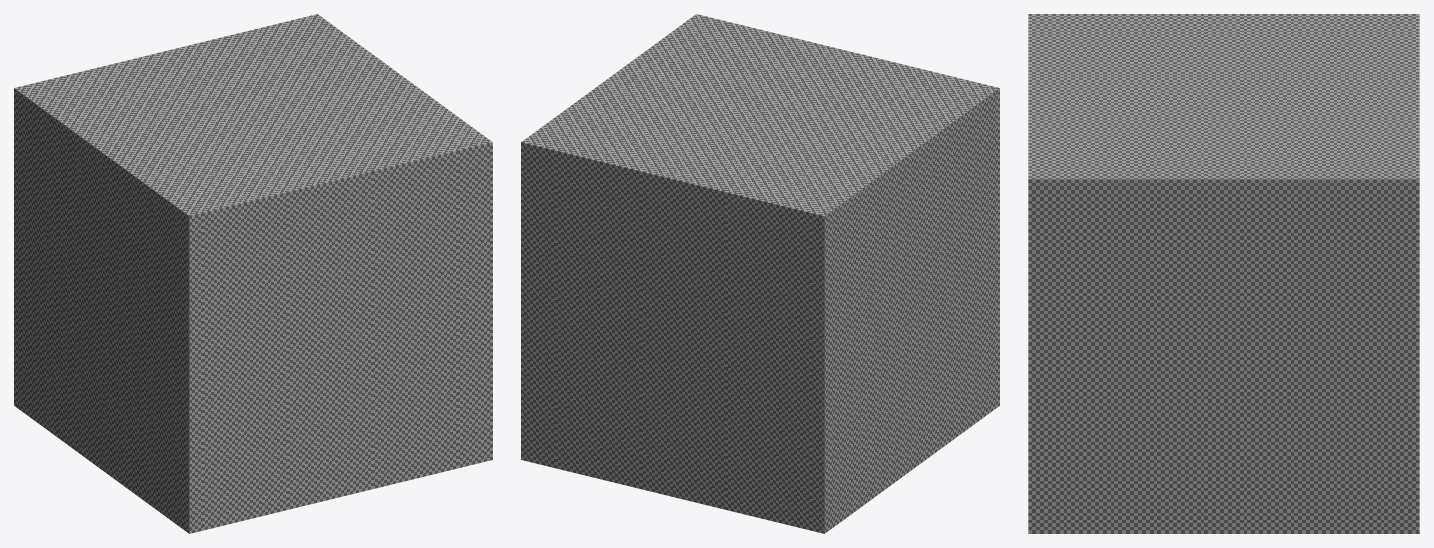
Rendered from collisionTest.gltf.
3 renders of one model, left to right at view 1: azimuth 30°, elevation 25°; view 2: azimuth 150°, elevation 25°; view 3: azimuth 270°, elevation 25°, orthographic. The views are drawn at different scales.
Visible parts, largest first — view 1: Plane.004, Plane.002, Plane.001; view 2: Plane, Plane.002, Plane.001; view 3: Plane.003, Plane.001.
Part boxes in pixels (box(x1,y1,x2,y2)): Plane.004: box(189, 142, 492, 533); Plane.002: box(14, 88, 189, 533); Plane.001: box(14, 14, 492, 216); Plane: box(521, 142, 824, 533); Plane.002: box(824, 88, 999, 533); Plane.001: box(521, 14, 999, 216); Plane.003: box(1028, 179, 1419, 533); Plane.001: box(1028, 14, 1419, 179).
Size of the model in its own units: 100 by 105 by 100.
Materials: 8 (1 with a texture image).
